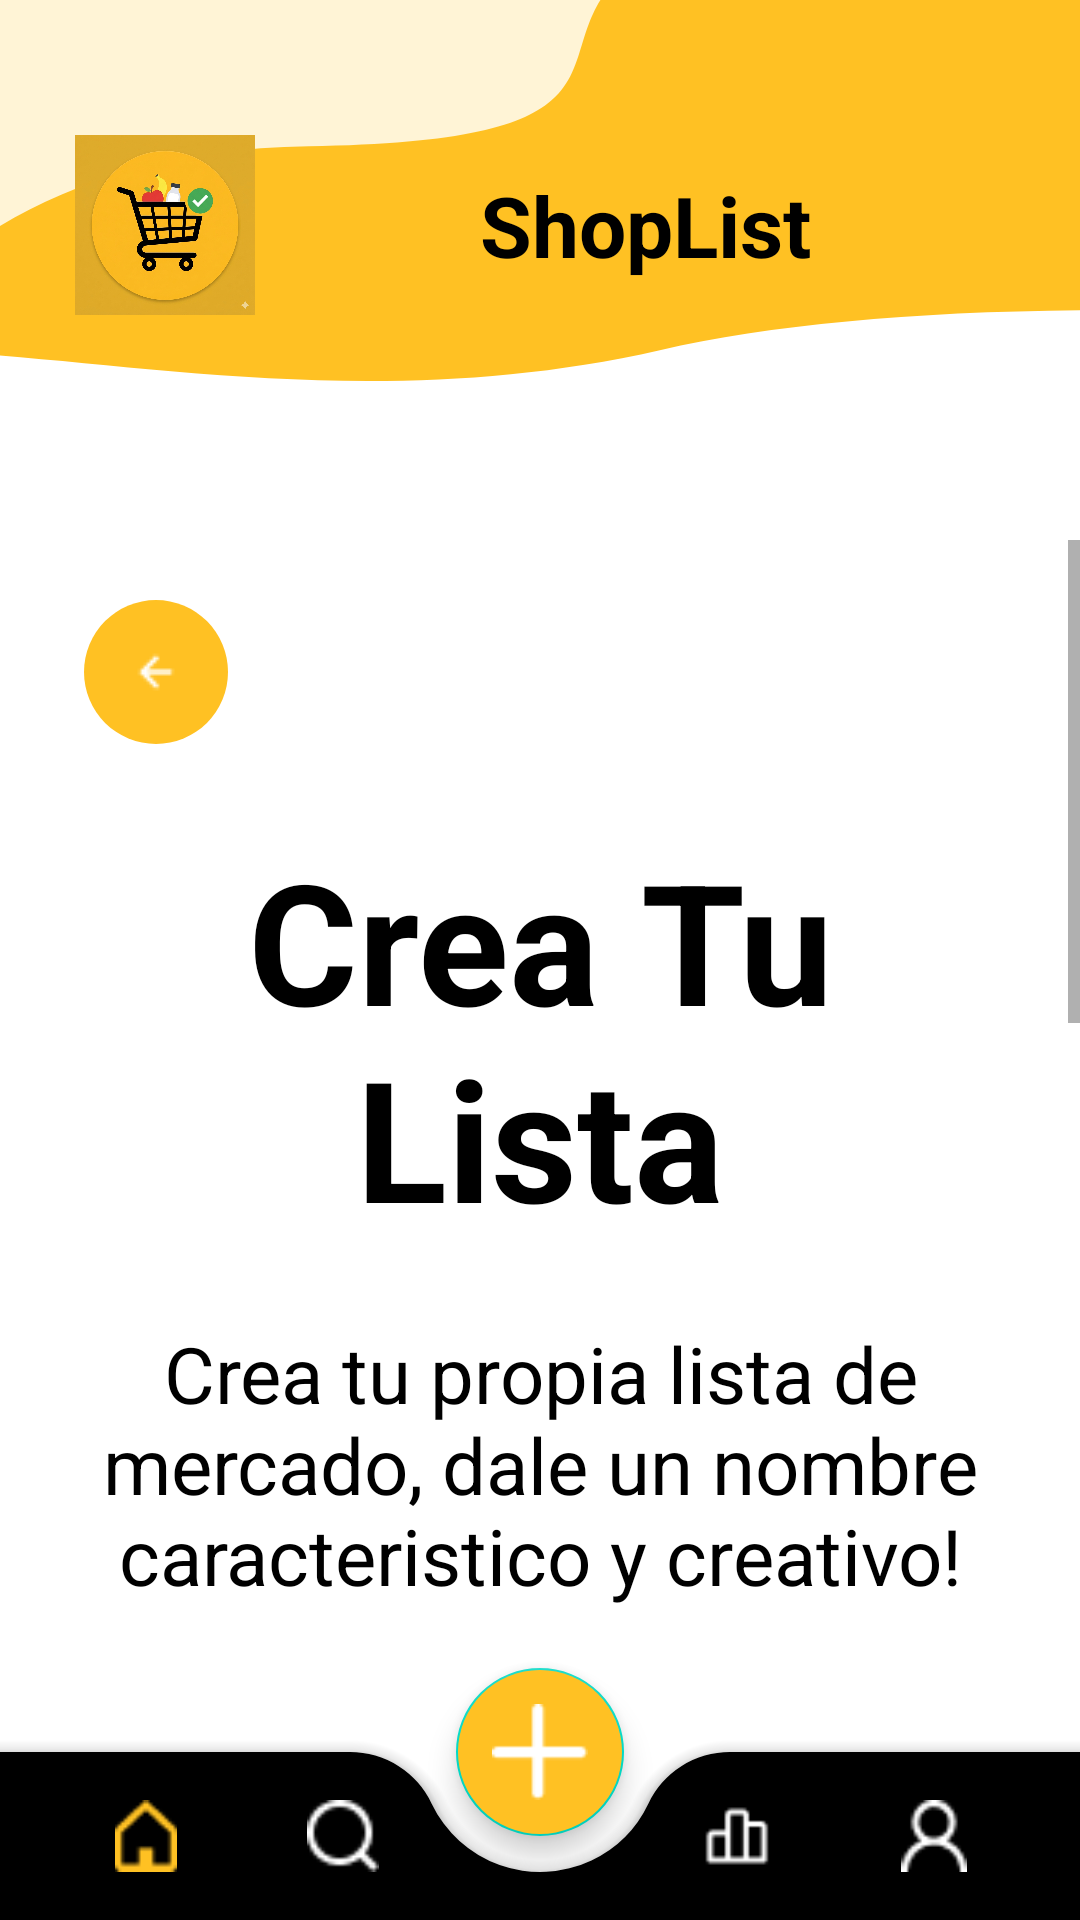

Screen size 1080 x 1920. Icon name, then its box in pixels as (x1, y1, x2, y2):
create list: (456, 1668, 624, 1836)
Volver: (84, 600, 228, 744)
